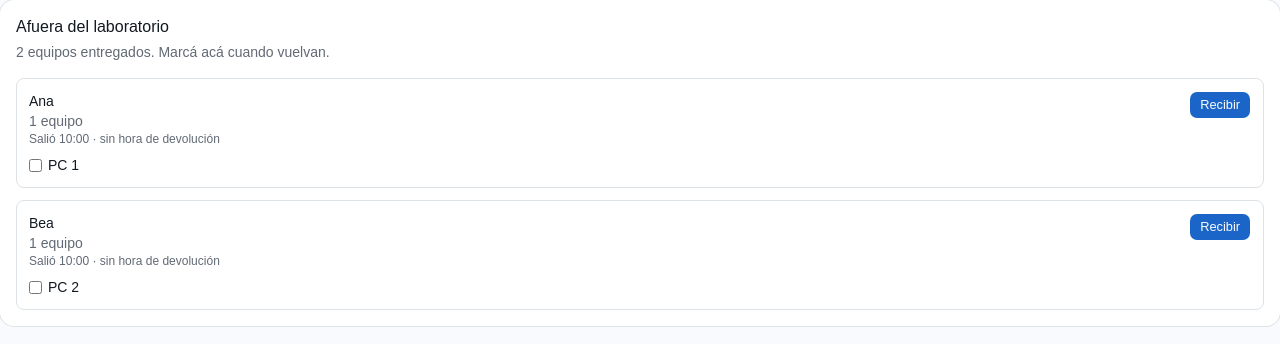
un préstamo recibido por otra persona deja de poder enviarse desde una selección vieja
Click the checkbox named "Seleccionar PC 1" at (36, 165), box [29,158,42,172]
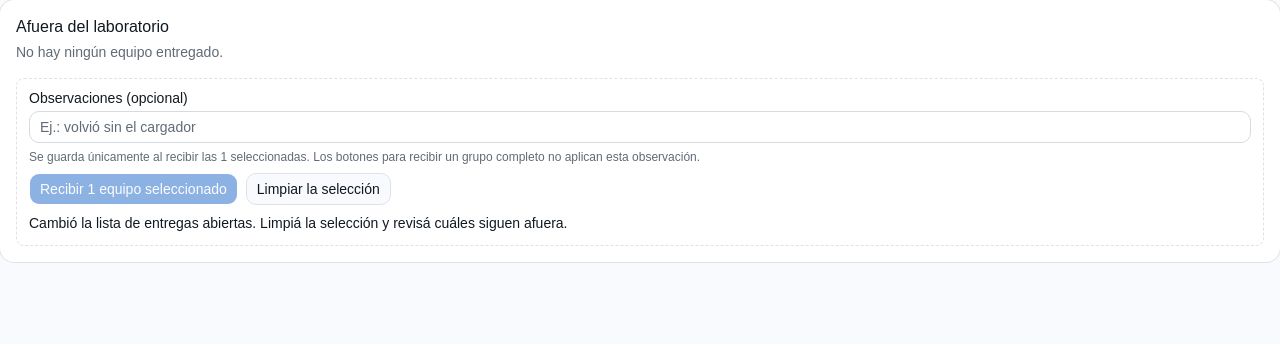
Expected: the text "Cambió la lista de entregas abiertas" is shown, [29,215,568,231]
Expected: the button "Recibir 1 equipo seleccionado" is disabled, [29,173,238,205]
